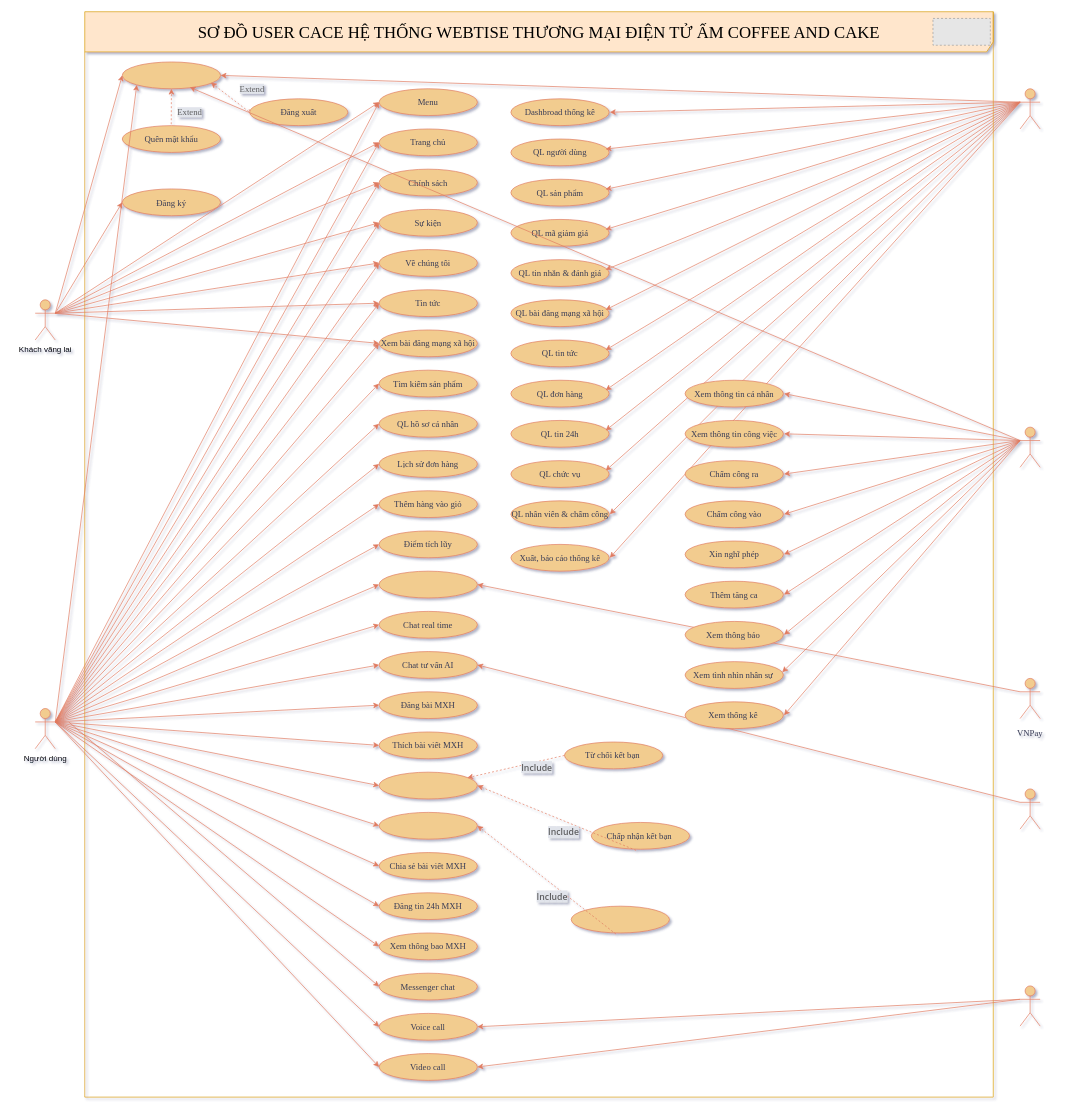
Image size: 1073x1113. Some labels were removed from this diagram. Grey dashed boxes stand in for pictures. Each missing label, with the centre of its shape:
Admin: point 1029,108
Bình luận bài viết MXH: point 427,825
Gửi kết bạn MXH: point 427,785
Nhân viên: point 1029,446
Thanh toán: point 427,584
Trả lời bình luận: point 620,919
tudongchat.com: point 1029,808
WebRTC: point 1029,1005
Đăng nhập: point 171,75
